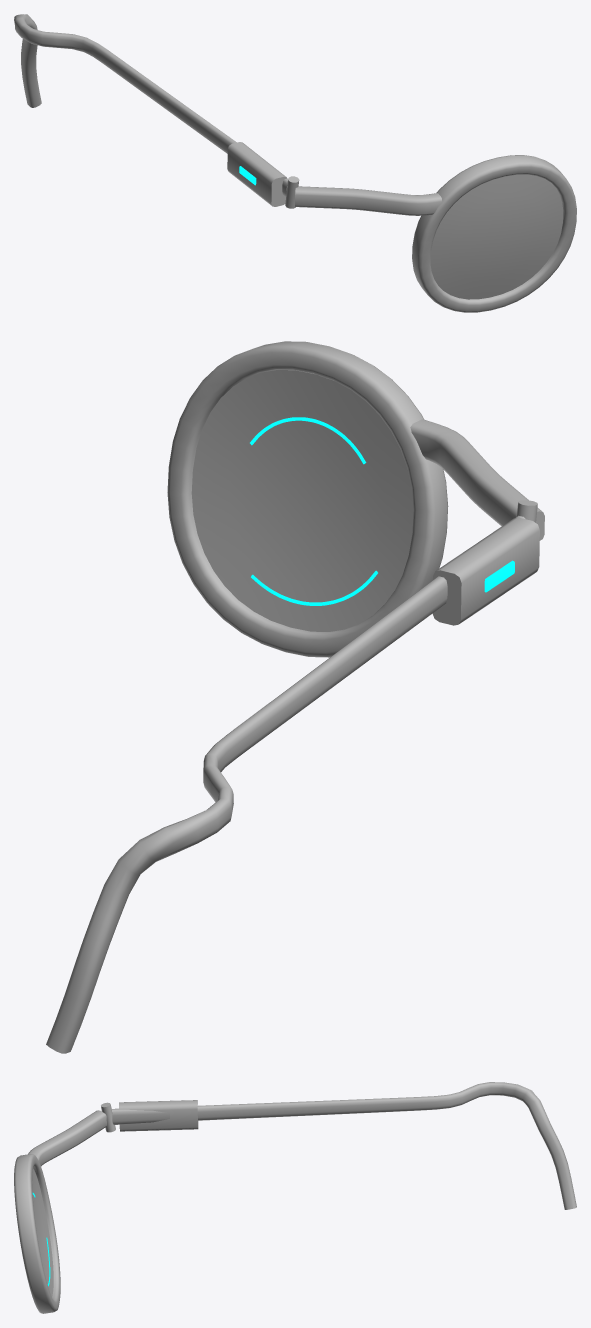
Rendered from kael_monocle_hud.fbx.
3 views of the same model, one above another, from view 1: azimuth 30°, elevation 25°; view 2: azimuth 150°, elevation 25°; view 3: azimuth 270°, elevation 25° (orthographic). The views are drawn at different scales.
Parts seen in each view (by area): view 1: kael_monocle_hud; view 2: kael_monocle_hud; view 3: kael_monocle_hud.
Boxes of the visible parts, box(x1,y1,x2,y2) form: kael_monocle_hud: box(14, 14, 576, 312); kael_monocle_hud: box(46, 341, 544, 1053); kael_monocle_hud: box(14, 1082, 576, 1313).
Bounding box in the file's own units: 0.0756 × 0.0401 × 0.1435.
